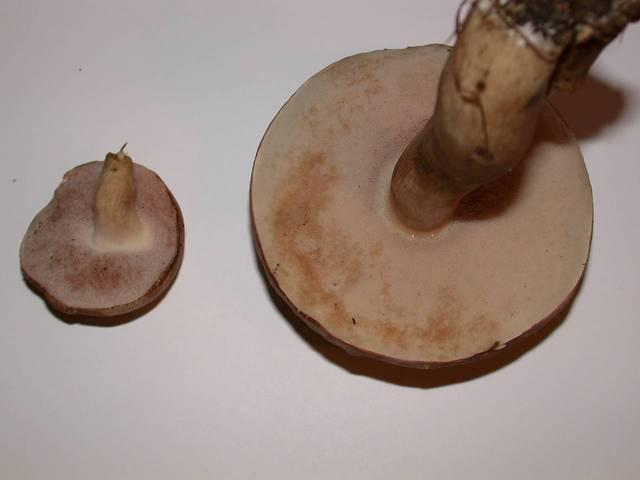poisonous_mushroom: (225, 0, 638, 373), (18, 140, 185, 326)
